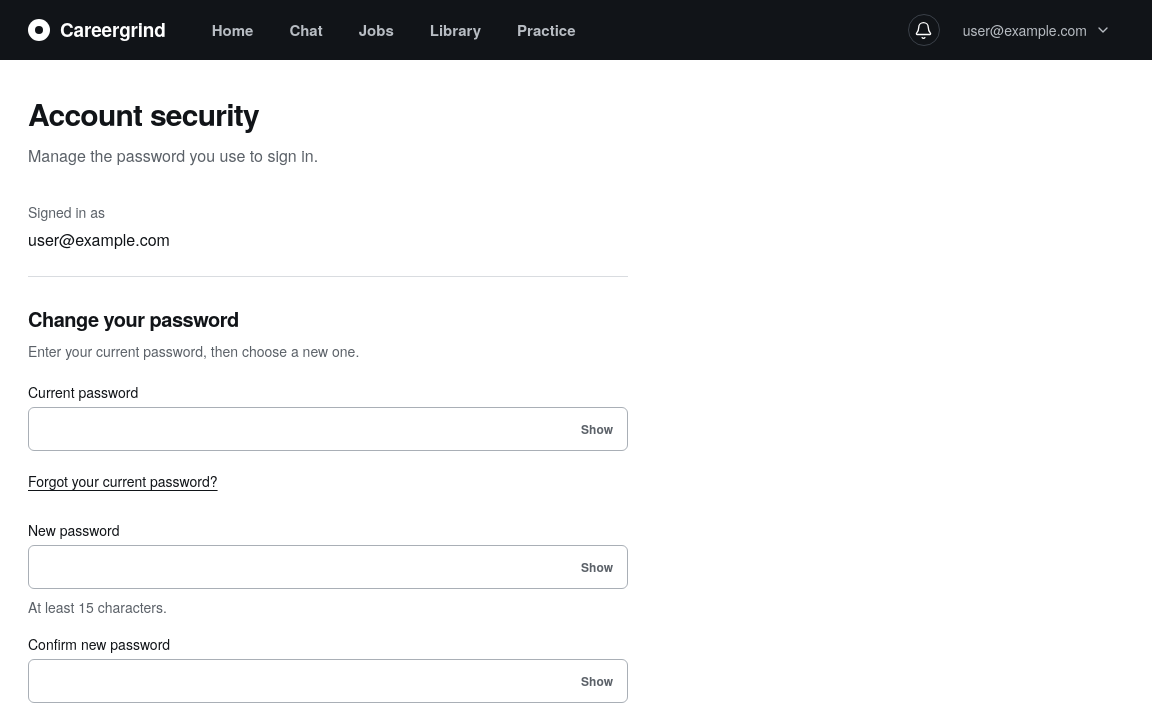
Scenario: keeps password-change success visible after auth and Apollo are refreshed, and broadcasts revocation
Type "old legacy password" into the password field labelled "Current password".
click(328, 429); type("old legacy password")  # box x1=28 y1=407 x2=628 y2=451
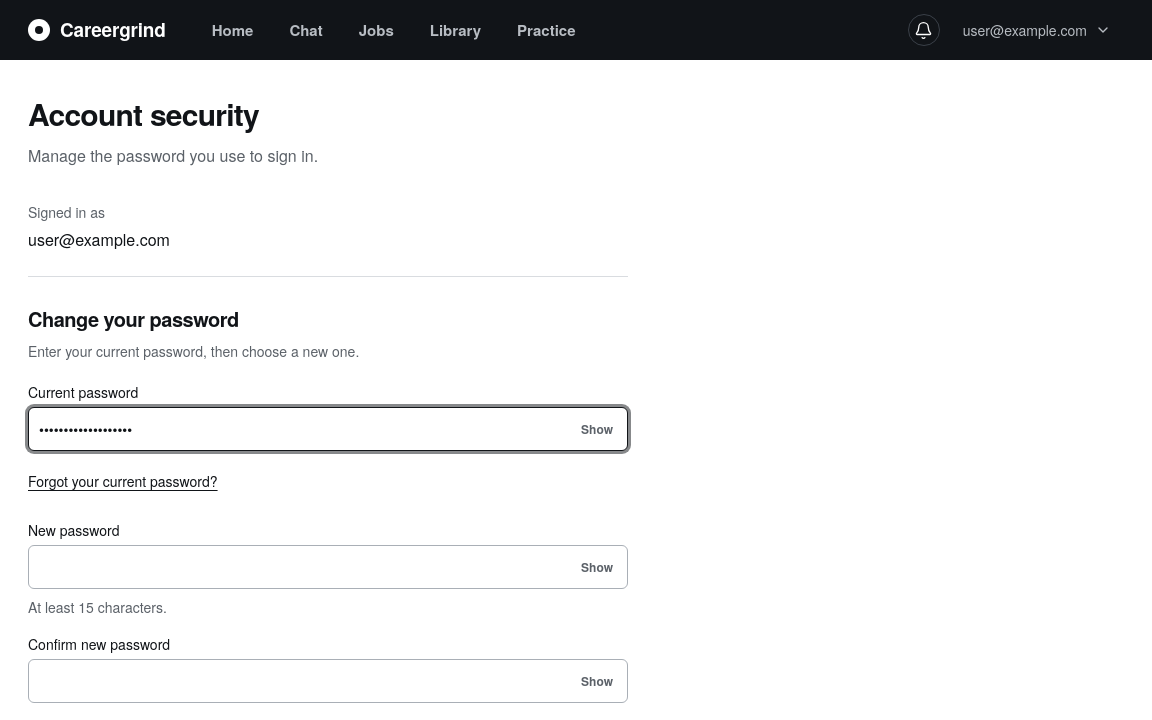
Expected: the heading "Account security" is shown, x1=28 y1=92 x2=259 y2=135
Expected: the navigation bar named "Main navigation" is shown, x1=212 y1=19 x2=576 y2=41
Type "a quiet orchard after rain" into the password field labelled "New password".
click(328, 567); type("a quiet orchard after rain")  # box x1=28 y1=545 x2=628 y2=589
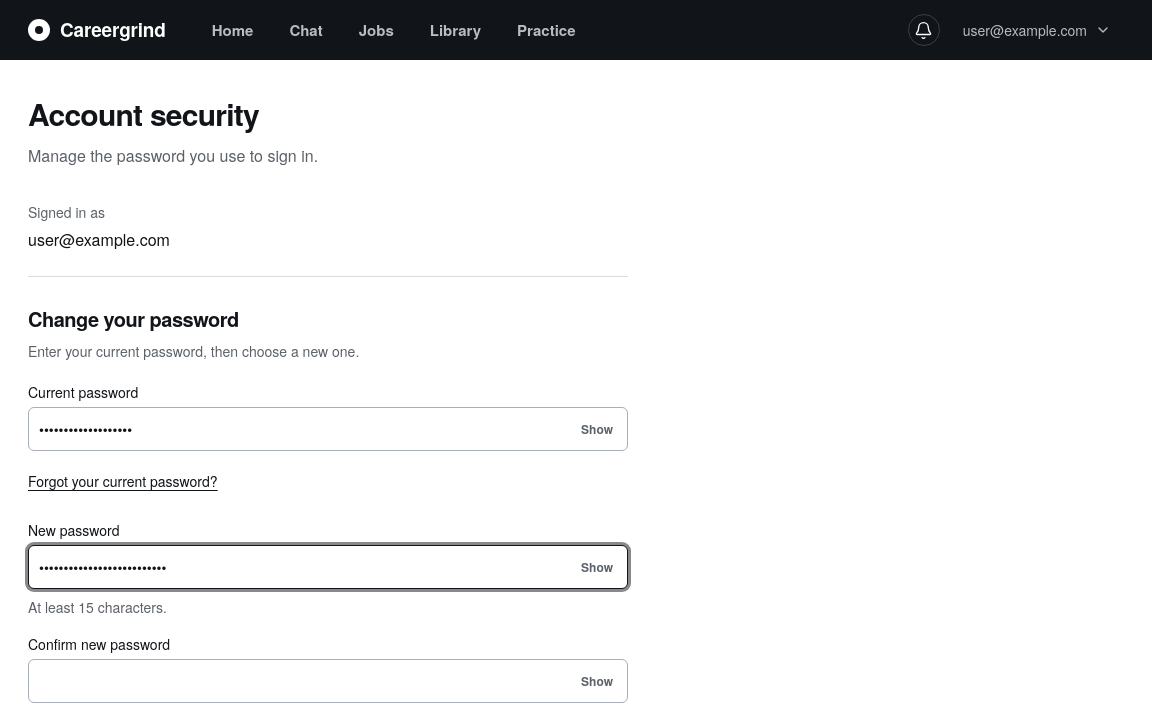
Type "a quiet orchard after rain" into the password field labelled "Confirm new password".
click(328, 681); type("a quiet orchard after rain")  # box x1=28 y1=659 x2=628 y2=703
(page scrolled)
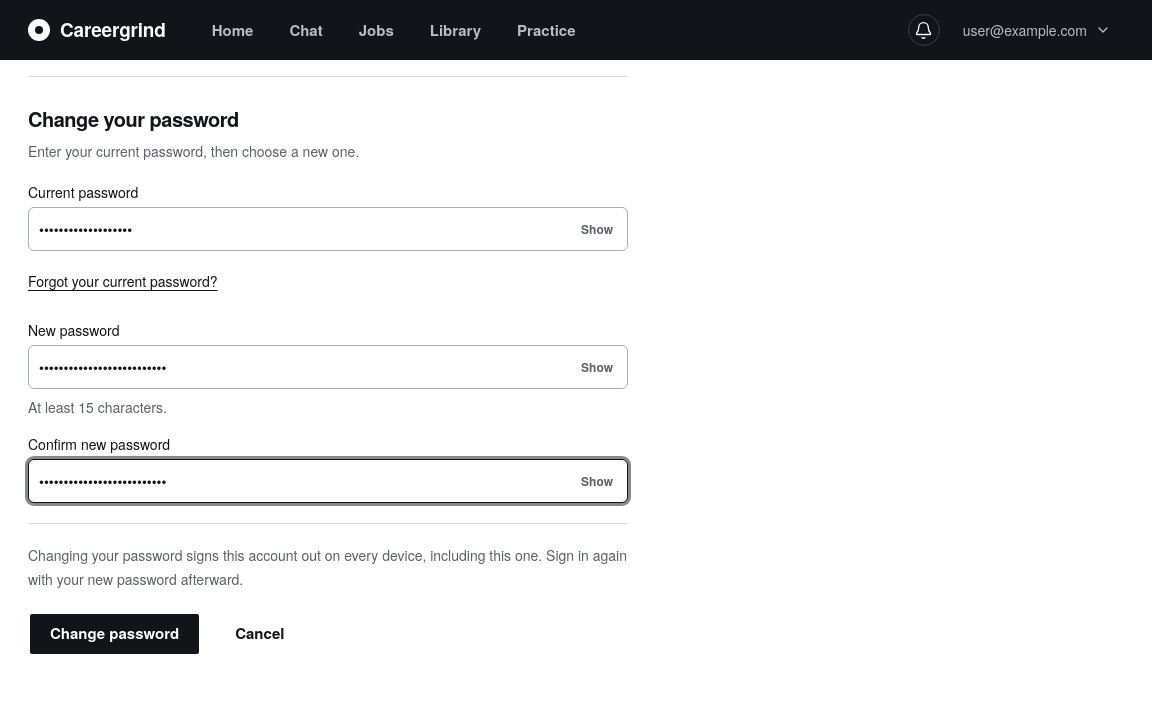
Click the button "Change password".
click(115, 634)  # box x1=28 y1=612 x2=201 y2=656
(page scrolled)
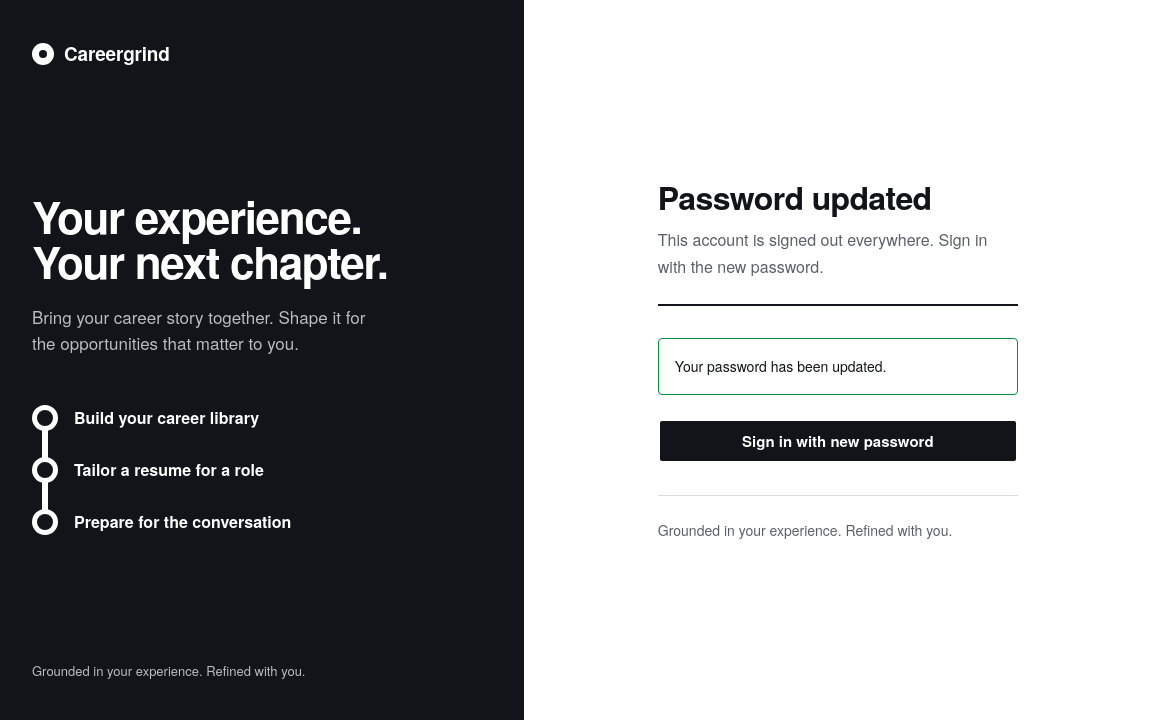
Expected: the heading "Password updated" is shown, x1=658 y1=174 x2=931 y2=220
Expected: the message shows "Your password has been updated", x1=675 y1=356 x2=886 y2=376
Expected: the text labelled "current password" is gone
